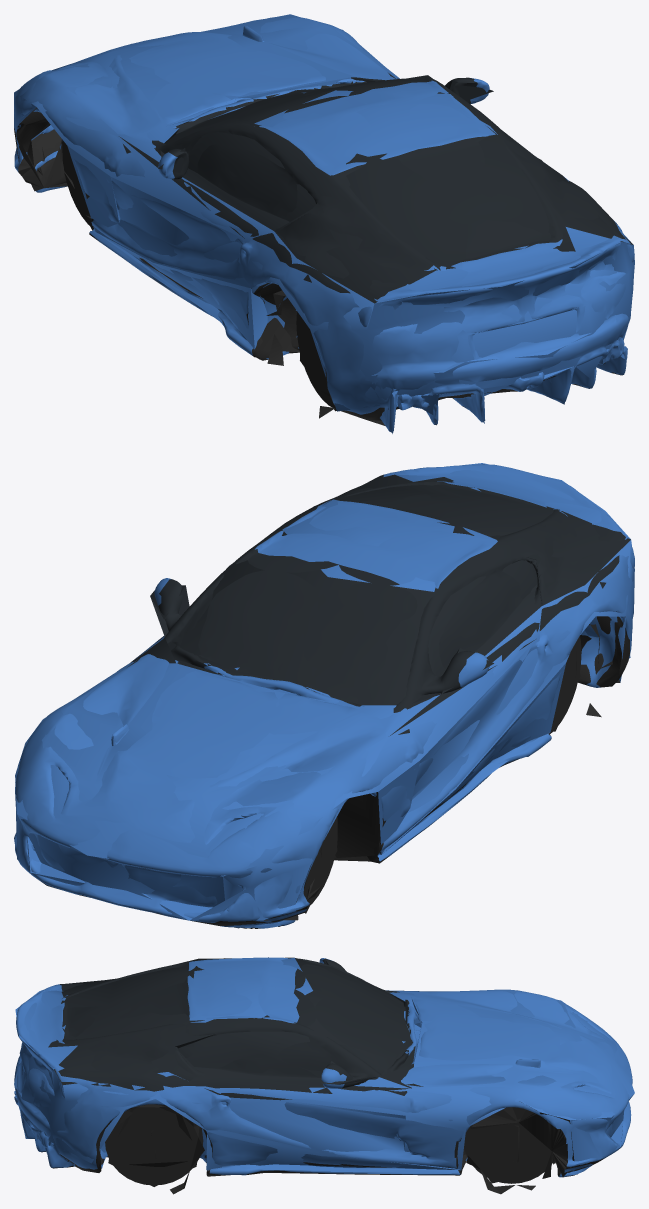
Rendered from ferrari-812-gts.glb.
3 renders of one model, top to bottom at view 1: azimuth 30°, elevation 25°; view 2: azimuth 150°, elevation 25°; view 3: azimuth 270°, elevation 25°, orthographic. The views are drawn at different scales.
Visible parts, largest first — view 1: body, far; view 2: body, far; view 3: body, far.
Part boxes in pixels (left/top/right/bottom): body: left=14, top=17, right=634, bottom=432; far: left=14, top=14, right=634, bottom=433; body: left=14, top=464, right=634, bottom=928; far: left=15, top=463, right=634, bottom=920; body: left=14, top=957, right=632, bottom=1194; far: left=14, top=957, right=634, bottom=1186.
Size of the model in its own units: 2.19 by 1.39 by 4.72.
